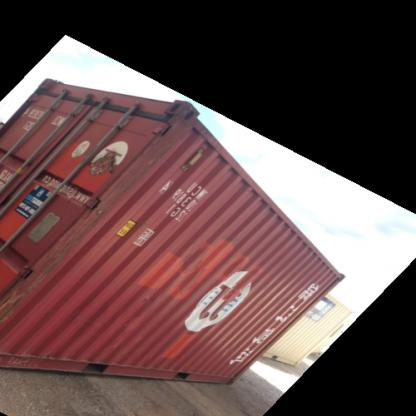Damage: (144, 101, 200, 176), (84, 161, 146, 227), (1, 262, 49, 321), (47, 224, 87, 276), (8, 352, 32, 372)
